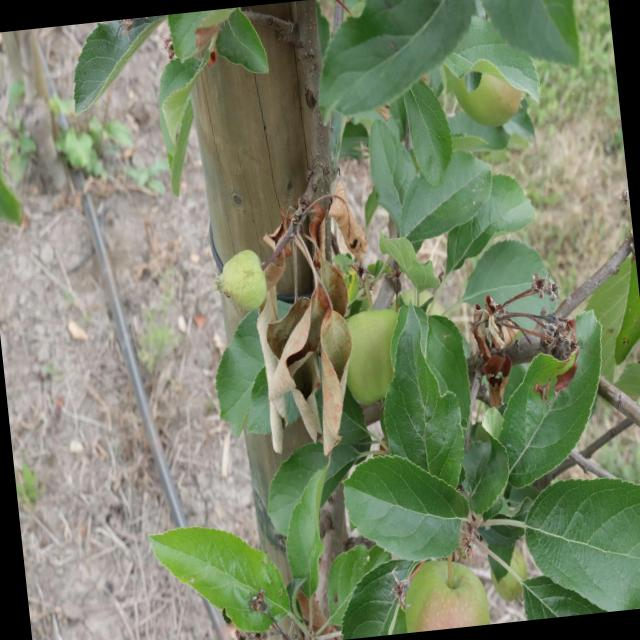-FireBlight-: (251, 201, 382, 457), (474, 296, 560, 406)
